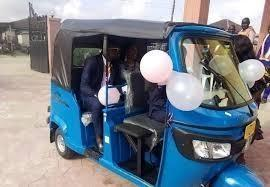keke: (46, 16, 268, 187)
